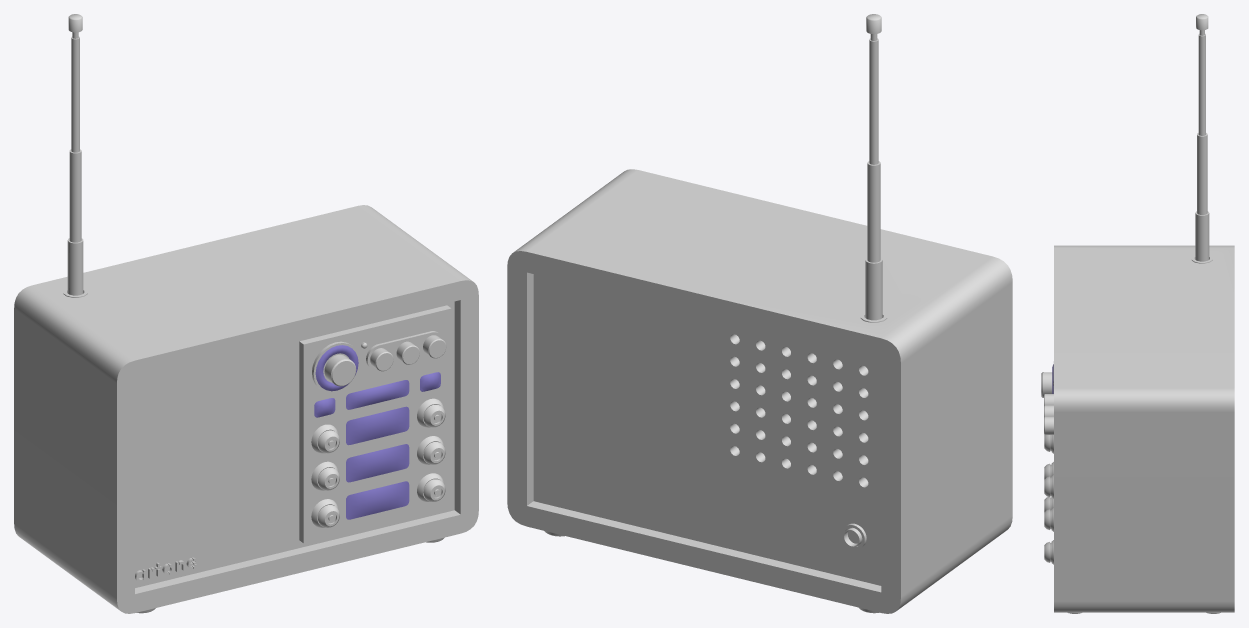
File: Radio.FBX
3 renders of one model, left to right at view 1: azimuth 30°, elevation 25°; view 2: azimuth 150°, elevation 25°; view 3: azimuth 270°, elevation 25°, orthographic. The views are drawn at different scales.
Visible parts, largest first — view 1: RadioBase_low, RadioAntenna_low, RadioGlass07_low, RadioGlass05_low, RadioGlass06_low, RadioSwitch001_low, RadioGlass03_low, RadioSwitchBase_low, RadioGlass01_low; view 2: RadioBase_low, RadioAntenna_low; view 3: RadioBase_low, RadioAntenna_low, RadioSwitch001_low.
Boxes of the visible parts, x1=… form: RadioBase_low: x1=14, y1=205, x2=478, y2=613; RadioAntenna_low: x1=67, y1=14, x2=83, y2=295; RadioGlass07_low: x1=346, y1=481, x2=409, y2=519; RadioGlass05_low: x1=346, y1=406, x2=409, y2=445; RadioGlass06_low: x1=346, y1=444, x2=409, y2=482; RadioSwitch001_low: x1=312, y1=341, x2=360, y2=393; RadioGlass03_low: x1=346, y1=380, x2=409, y2=409; RadioSwitchBase_low: x1=366, y1=331, x2=443, y2=370; RadioGlass01_low: x1=315, y1=345, x2=358, y2=391; RadioBase_low: x1=507, y1=169, x2=1012, y2=613; RadioAntenna_low: x1=865, y1=14, x2=882, y2=320; RadioBase_low: x1=1054, y1=245, x2=1234, y2=612; RadioAntenna_low: x1=1195, y1=14, x2=1209, y2=261; RadioSwitch001_low: x1=1041, y1=361, x2=1053, y2=397.
Size of the model in its own units: 0.24 by 0.3396 by 0.1261.
